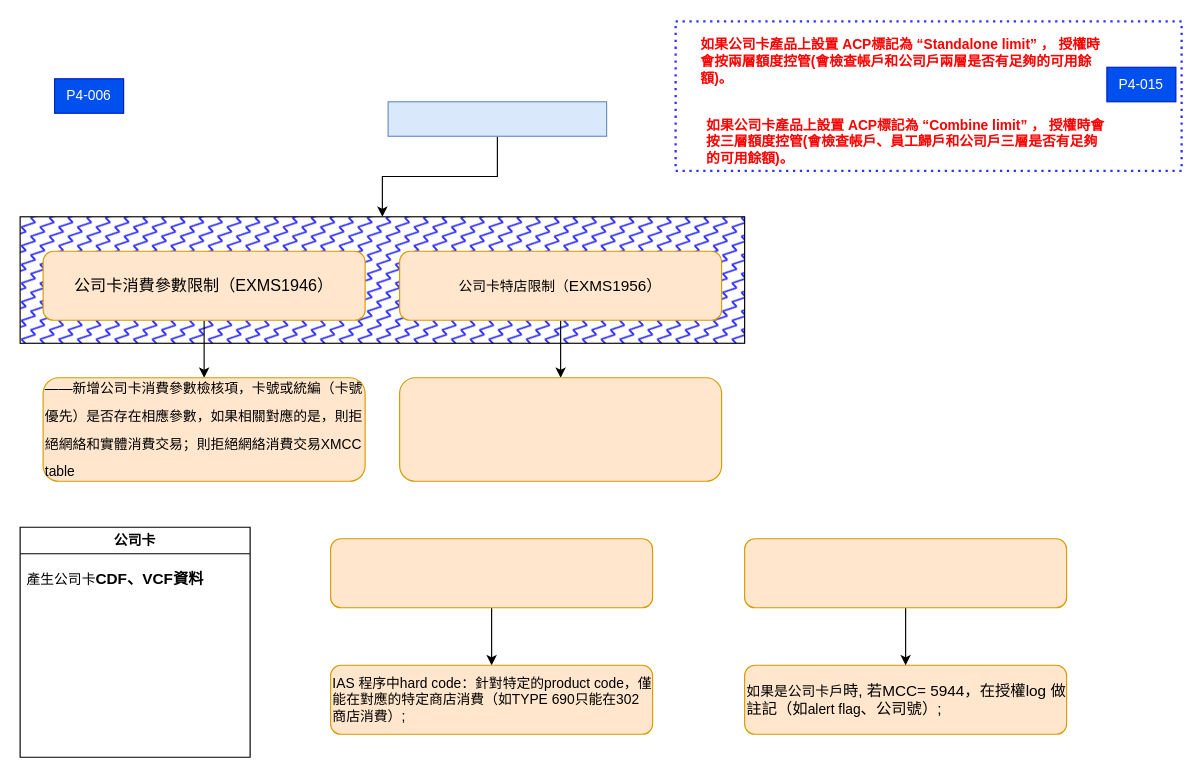
Some shapes in this 1203 by 777 pixel diagram are drawn without their labels. The centre of each missing label's shape, as x and y in pixels:
"IAS GUI ONLY" goes at [497,118].
"——新增公司卡消費特店檢核項，卡號或統編（卡號優先）是否存在相應參數，比對功能啓用、特店、單筆限額id" goes at [560,429].
"公司卡特店群組消費通知" goes at [905,573].
"其他限制（採購卡 2 ）" goes at [491,573].
